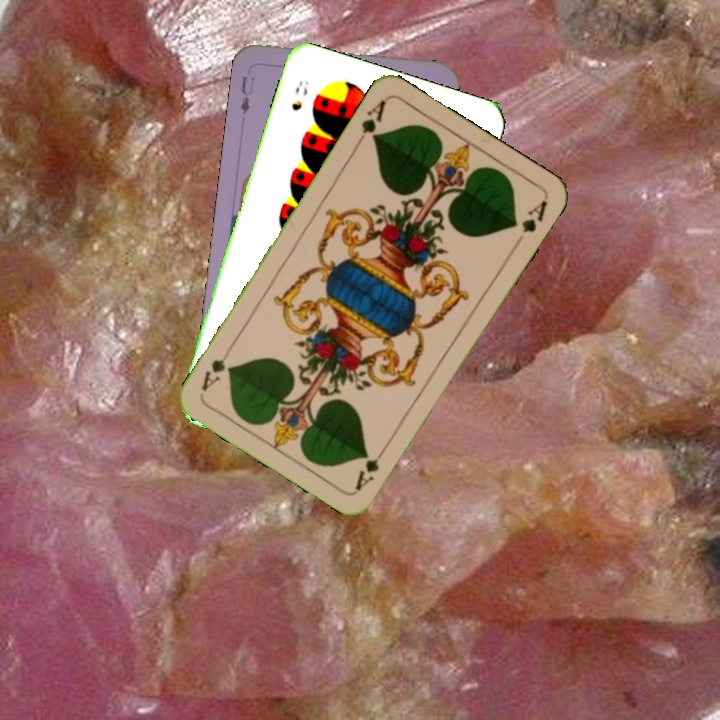EU: (236, 71, 257, 117)
GA: (351, 440, 391, 493), (351, 96, 389, 150)
S8: (287, 77, 311, 114)
